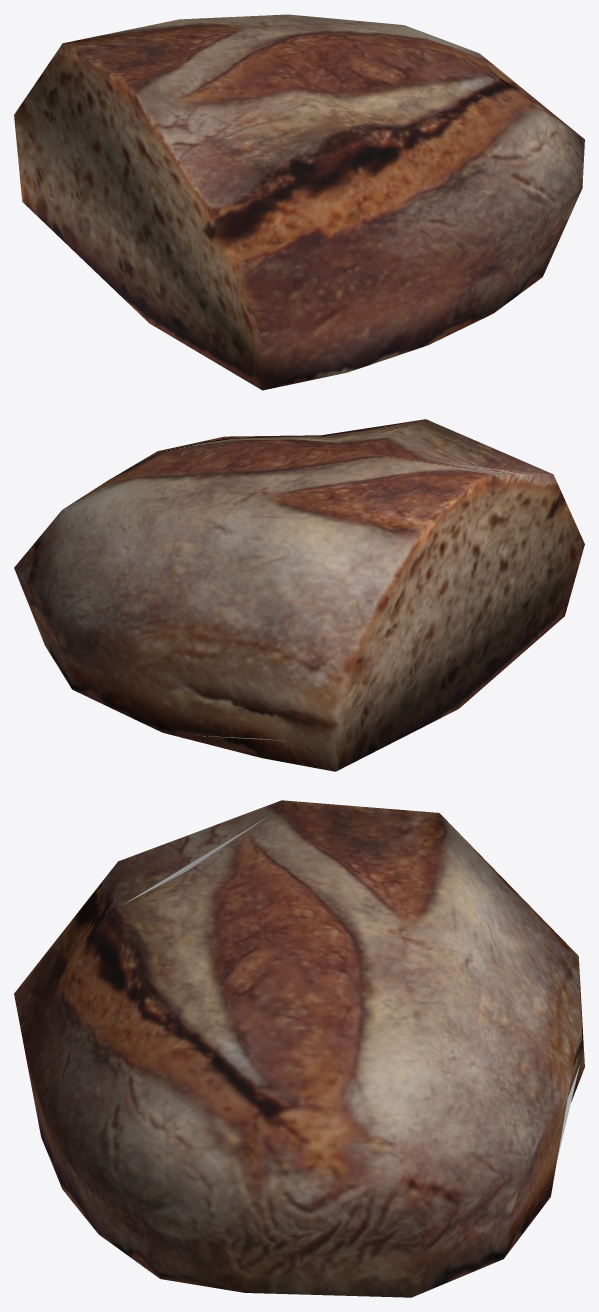
File: SM_Bread_Half.gltf
3 views of the same model, one above another, from view 1: azimuth 30°, elevation 25°; view 2: azimuth 150°, elevation 25°; view 3: azimuth 270°, elevation 25° (orthographic). The views are drawn at different scales.
Visible parts, largest first — view 1: SM_Bread_Half_LOD0; view 2: SM_Bread_Half_LOD0; view 3: SM_Bread_Half_LOD0, SM_Bread_Half_ConvexHulls.
Part boxes in pixels (x1=…): SM_Bread_Half_LOD0: x1=14, y1=14, x2=584, y2=390; SM_Bread_Half_LOD0: x1=14, y1=419, x2=584, y2=771; SM_Bread_Half_LOD0: x1=14, y1=800, x2=584, y2=1297; SM_Bread_Half_ConvexHulls: x1=123, y1=816, x2=579, y2=1160.
Size of what is drawn, in the model's own units: 0.431 by 0.2281 by 0.4156.
